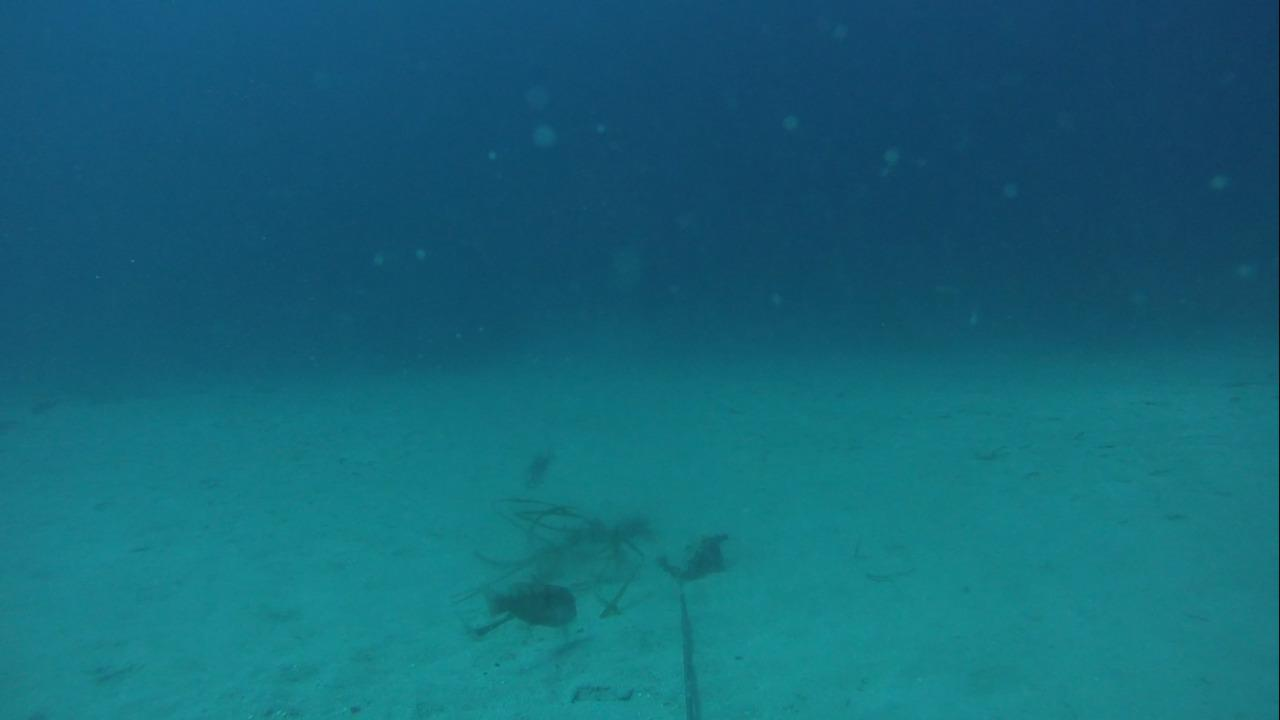raor: (477, 579, 581, 636)
